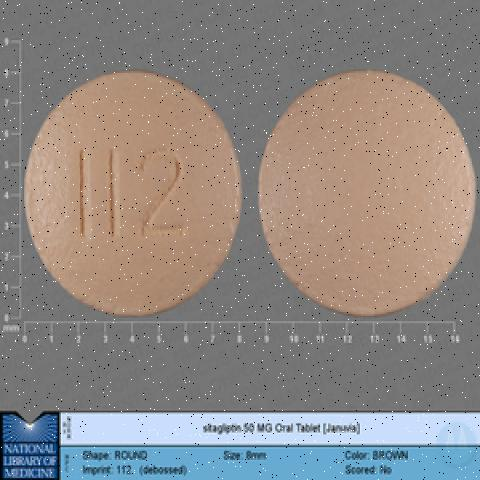Pill: (12, 52, 248, 344), (251, 54, 471, 329)
